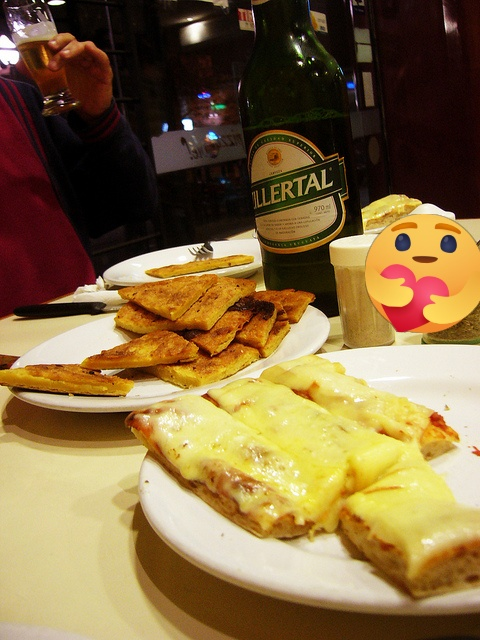care: (365, 214, 480, 333)
